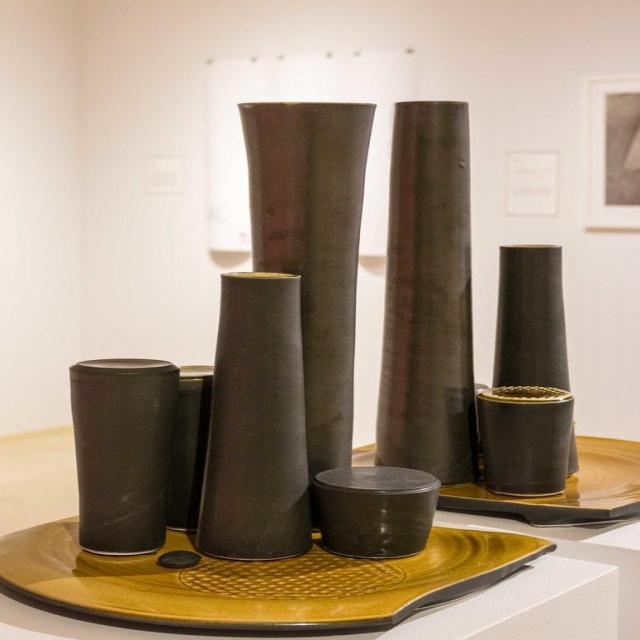table: (0, 441, 567, 618)
